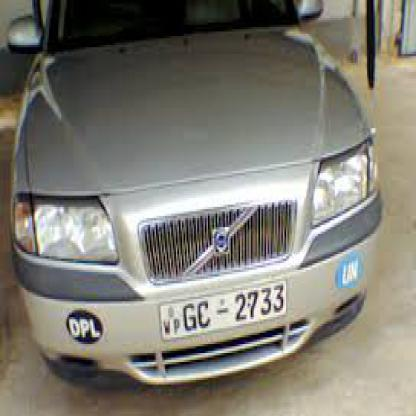car: (6, 2, 387, 392)
